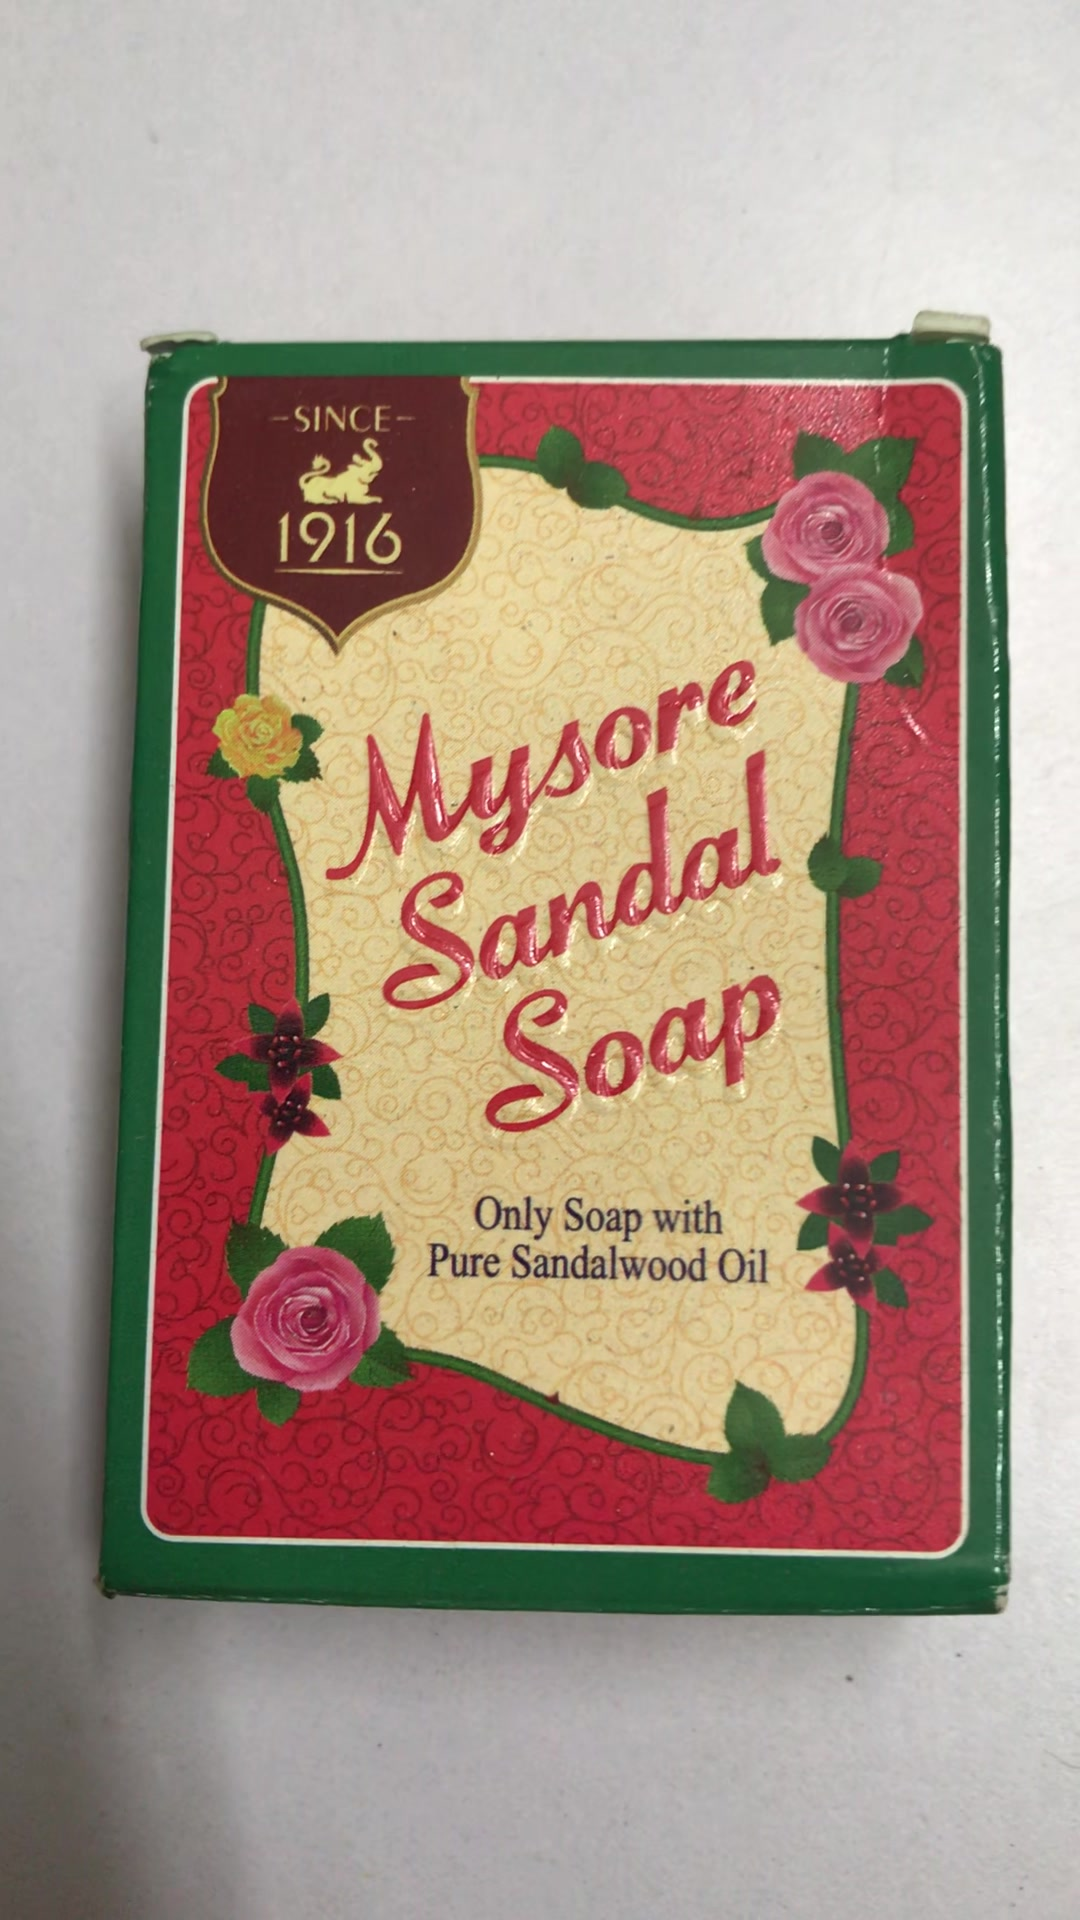mysore sandal soap: (120, 338, 1005, 1606)
